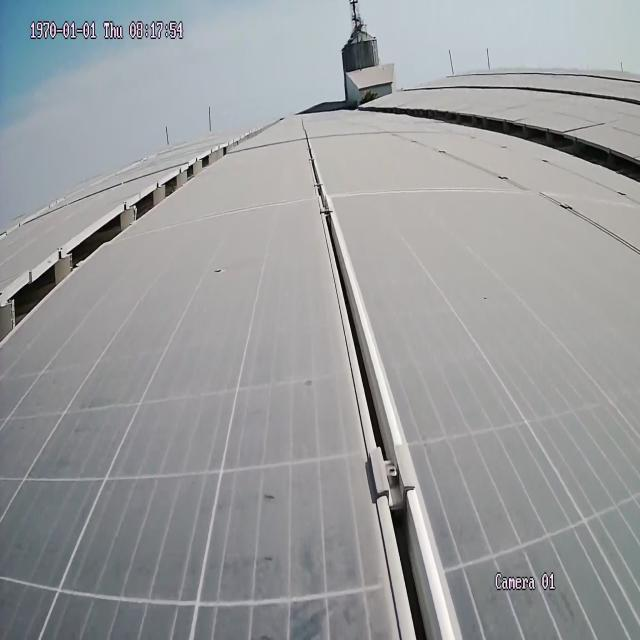interior panel: (306, 138, 458, 632)
outher panel: (3, 140, 235, 344), (402, 109, 640, 189)
